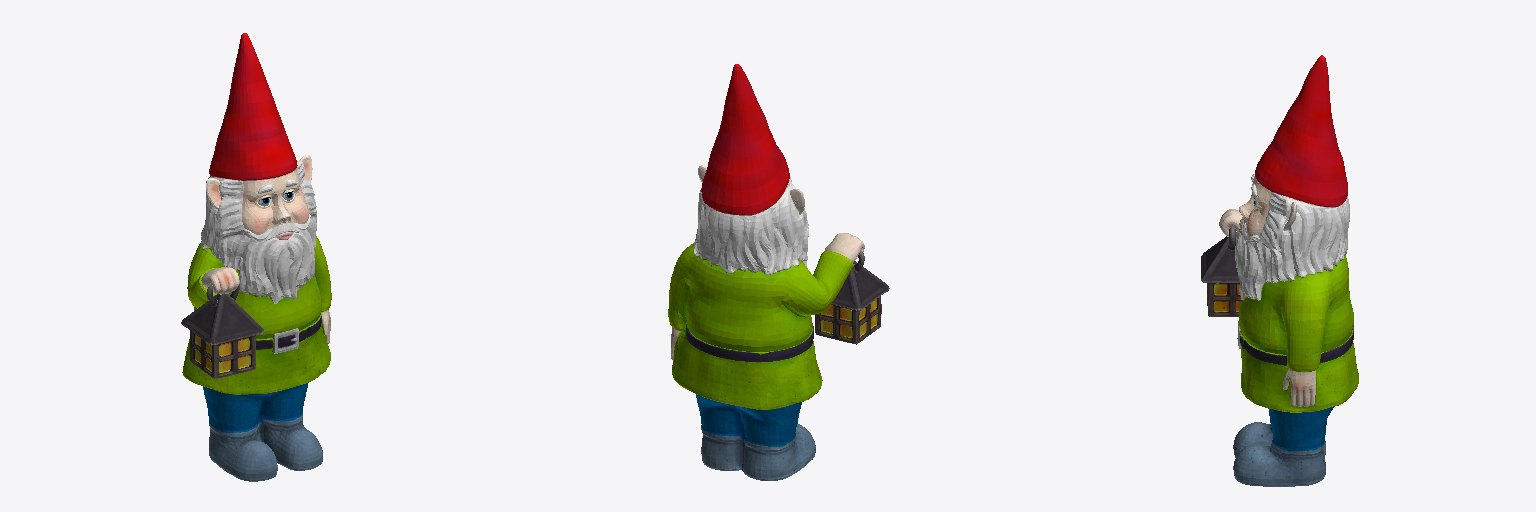
3 views of the same model, side by side, from view 1: azimuth 30°, elevation 25°; view 2: azimuth 150°, elevation 25°; view 3: azimuth 270°, elevation 25° (orthographic).
Visible parts, largest first — view 1: garden_gnome_garden_gnome_01; view 2: garden_gnome_garden_gnome_01; view 3: garden_gnome_garden_gnome_01.
Part boxes in pixels (left/top/right/bottom): garden_gnome_garden_gnome_01: left=181, top=33, right=331, bottom=481; garden_gnome_garden_gnome_01: left=668, top=64, right=889, bottom=480; garden_gnome_garden_gnome_01: left=1201, top=55, right=1358, bottom=486.
Size of the model in its own units: 0.2579 by 0.5991 by 0.2097.
1 materials, 1 textured.